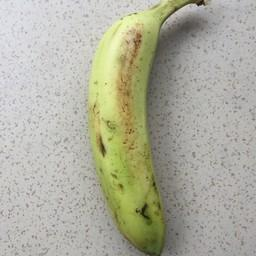Banana Ripe: (80, 0, 217, 256)
